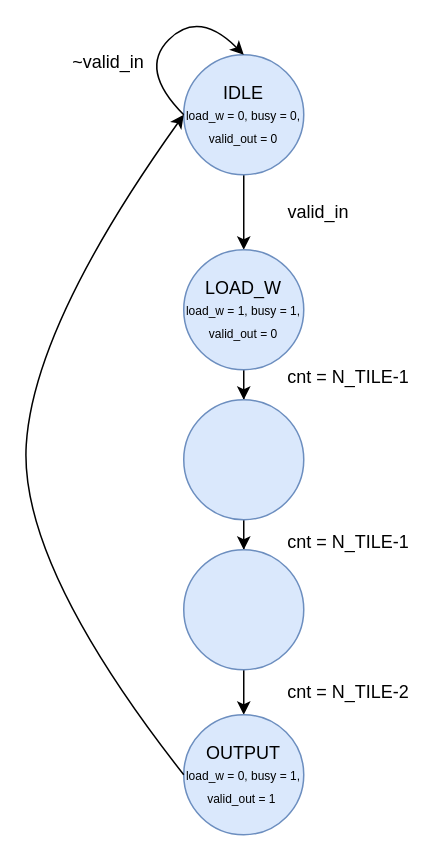
Some shapes in this 443 by 861 pixel diagram are drawn without their labels. Each missing label, with the centre of its shape:
"DRAIN load_w = 0, busy = 1, valid_out = 0" belongs at point (243, 609).
"FEED_A load_w = 0, busy = 1, valid_out = 0" belongs at point (243, 459).
